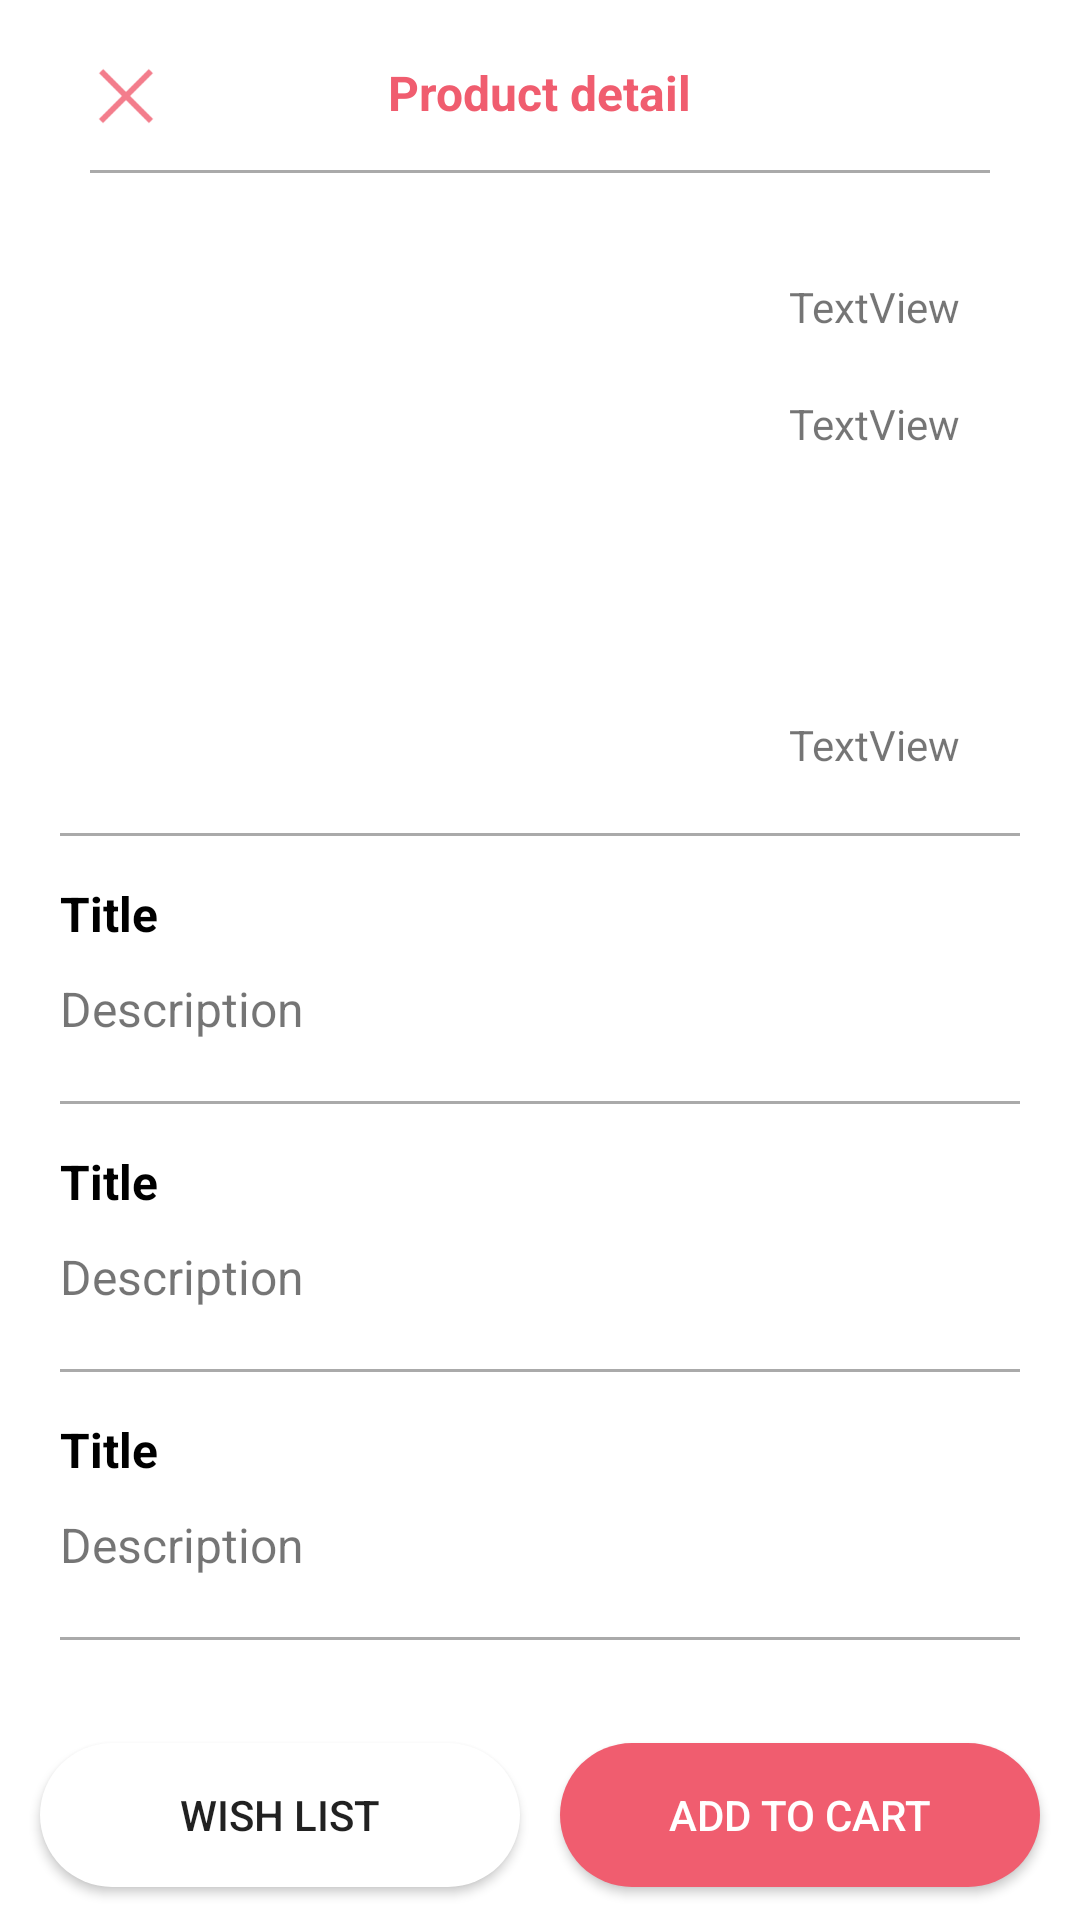

Named icons in this screenshot (1080w x 1920h) and their bounding boxes, (x1, y1, x2, y2):
close: (99, 69, 153, 123)
